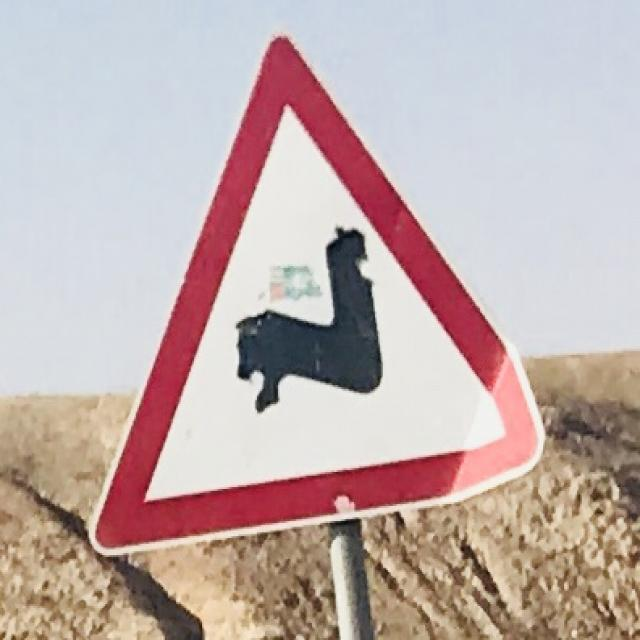right reverse bend: (60, 23, 547, 537)
